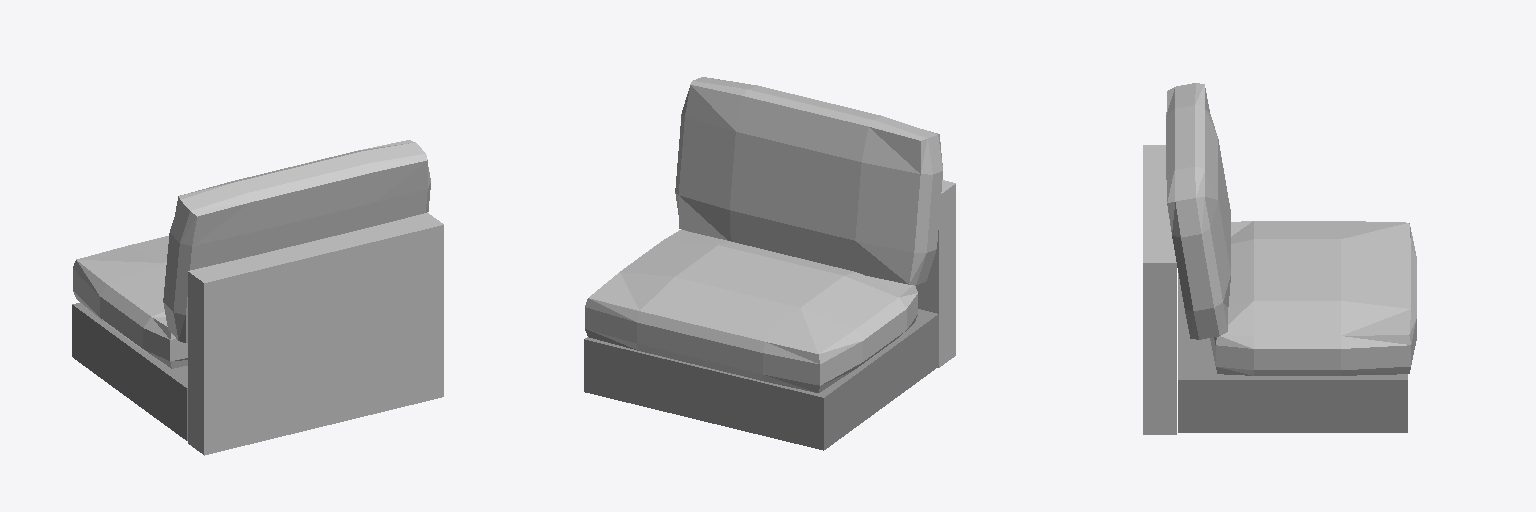
File: simple_sofa_middle.obj
3 renders of one model, left to right at view 1: azimuth 30°, elevation 25°; view 2: azimuth 150°, elevation 25°; view 3: azimuth 270°, elevation 25°, orthographic.
Parts seen in each view (by area): view 1: Cube.004; view 2: Cube.004; view 3: Cube.004.
Boxes of the visible parts, x1=… form: Cube.004: x1=72, y1=140, x2=443, y2=455; Cube.004: x1=584, y1=77, x2=955, y2=450; Cube.004: x1=1143, y1=83, x2=1416, y2=434.
Bounding box in the file's own units: 2.16 × 1.98 × 2.04.